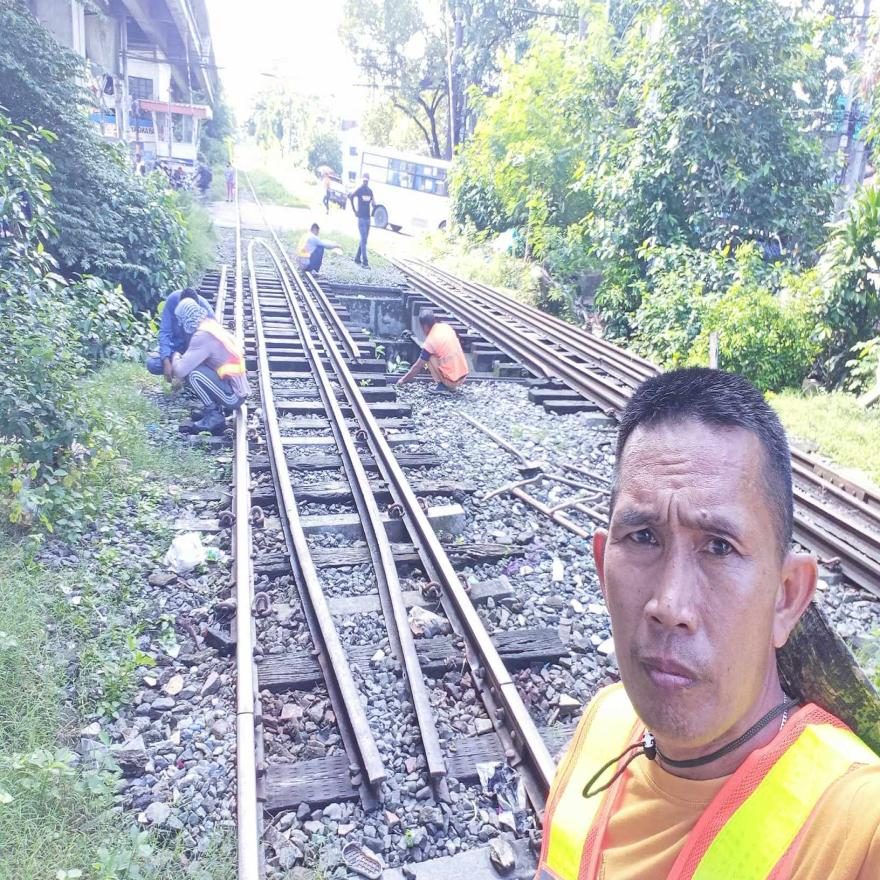railway-gap: (223, 684, 269, 735), (492, 668, 520, 699)
